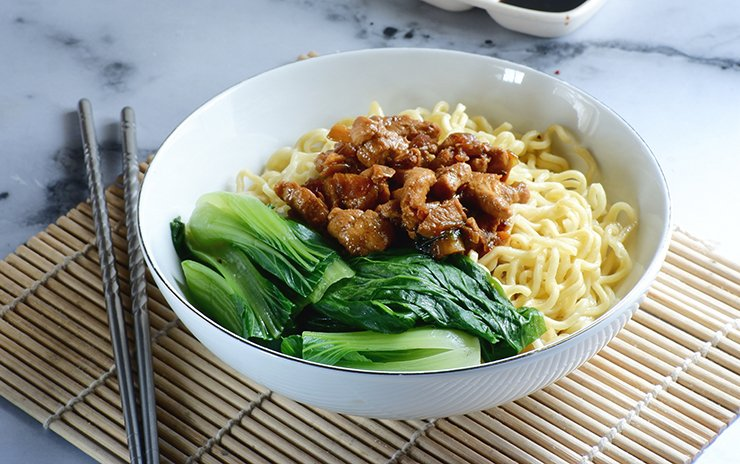Mie: (207, 81, 624, 362)
